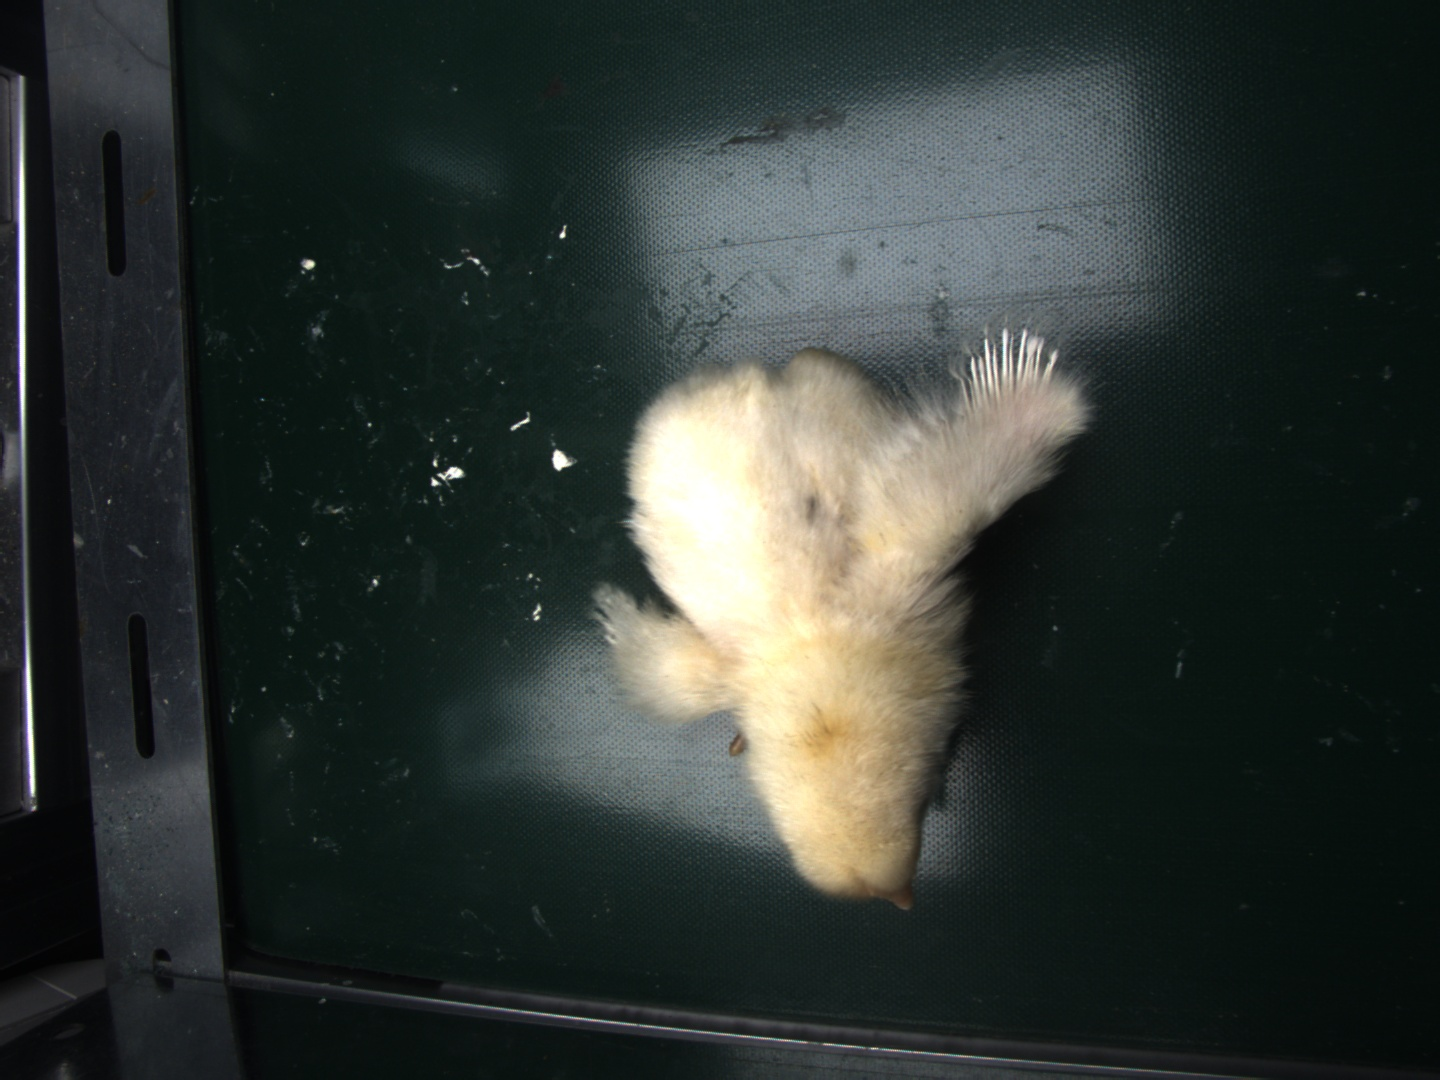male: (962, 324, 1061, 399)
